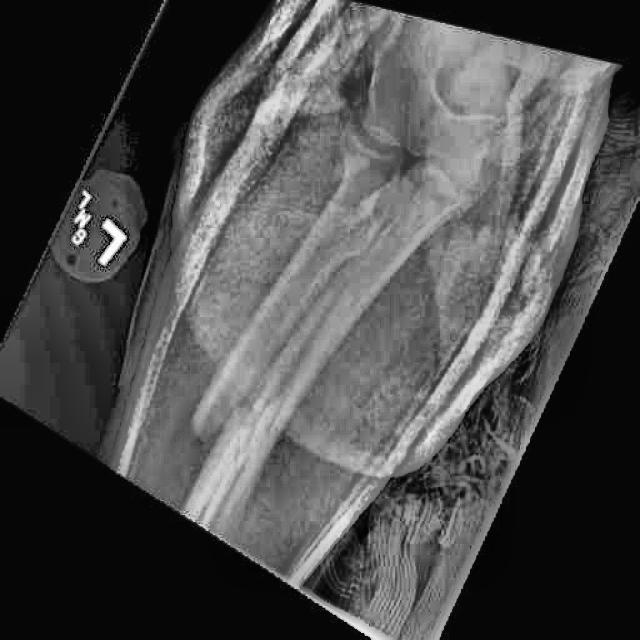forearm fracture: (159, 340, 317, 529)
